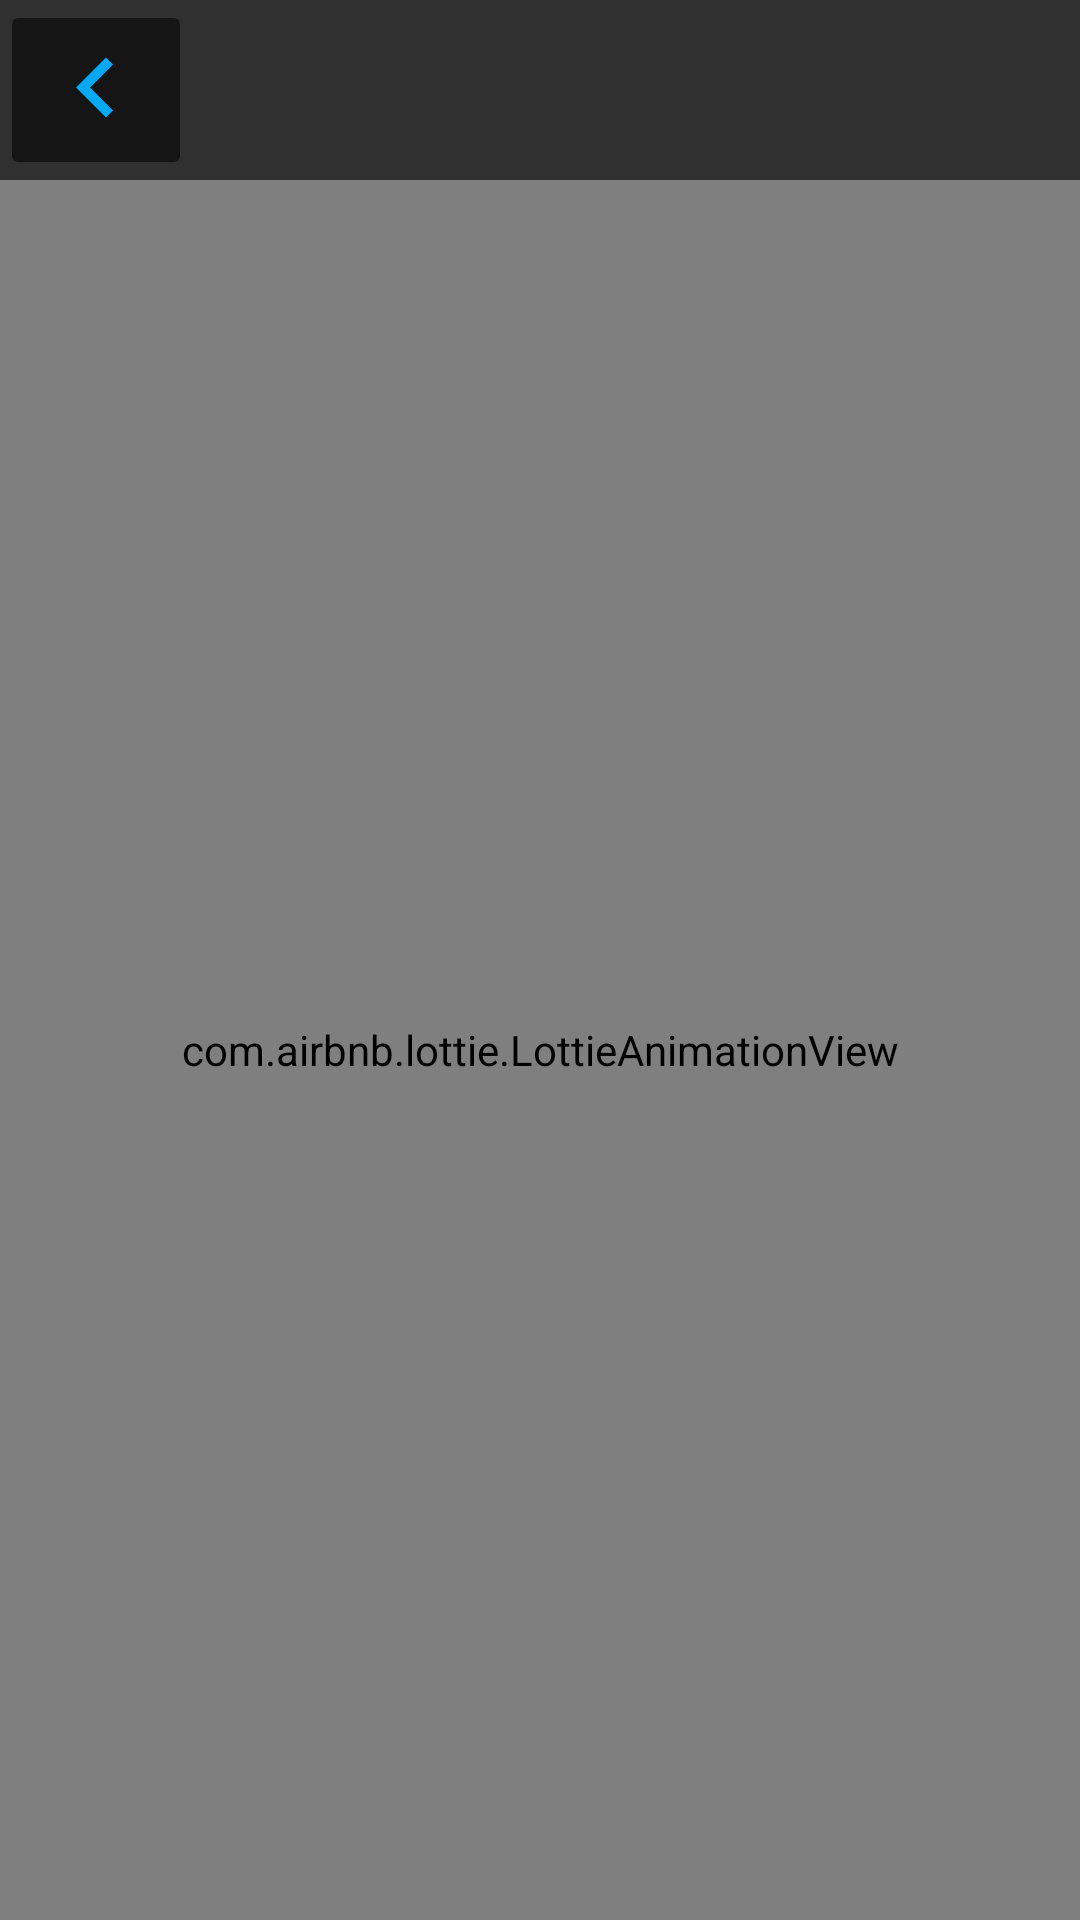

Locate icon controls on the screen. Image size 1080 x 1920, boxes as (x1,y1,x2,y2).
search back: (12,18,180,162)
